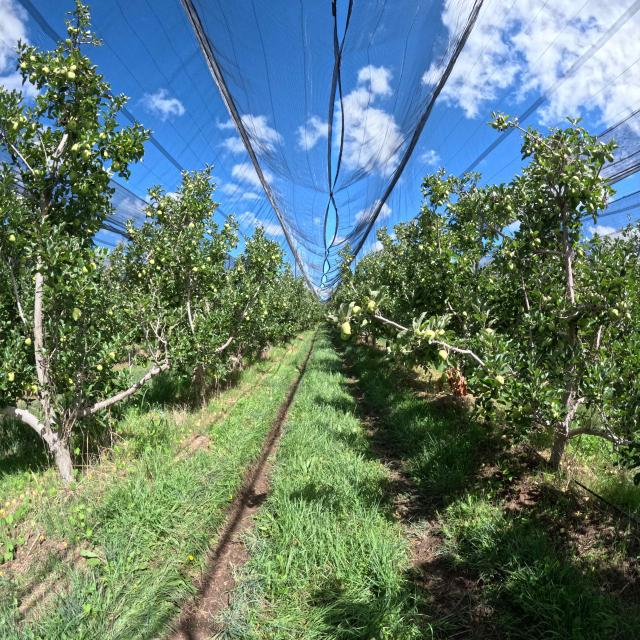-FireBlight-: (445, 365, 468, 398), (436, 379, 443, 392)
